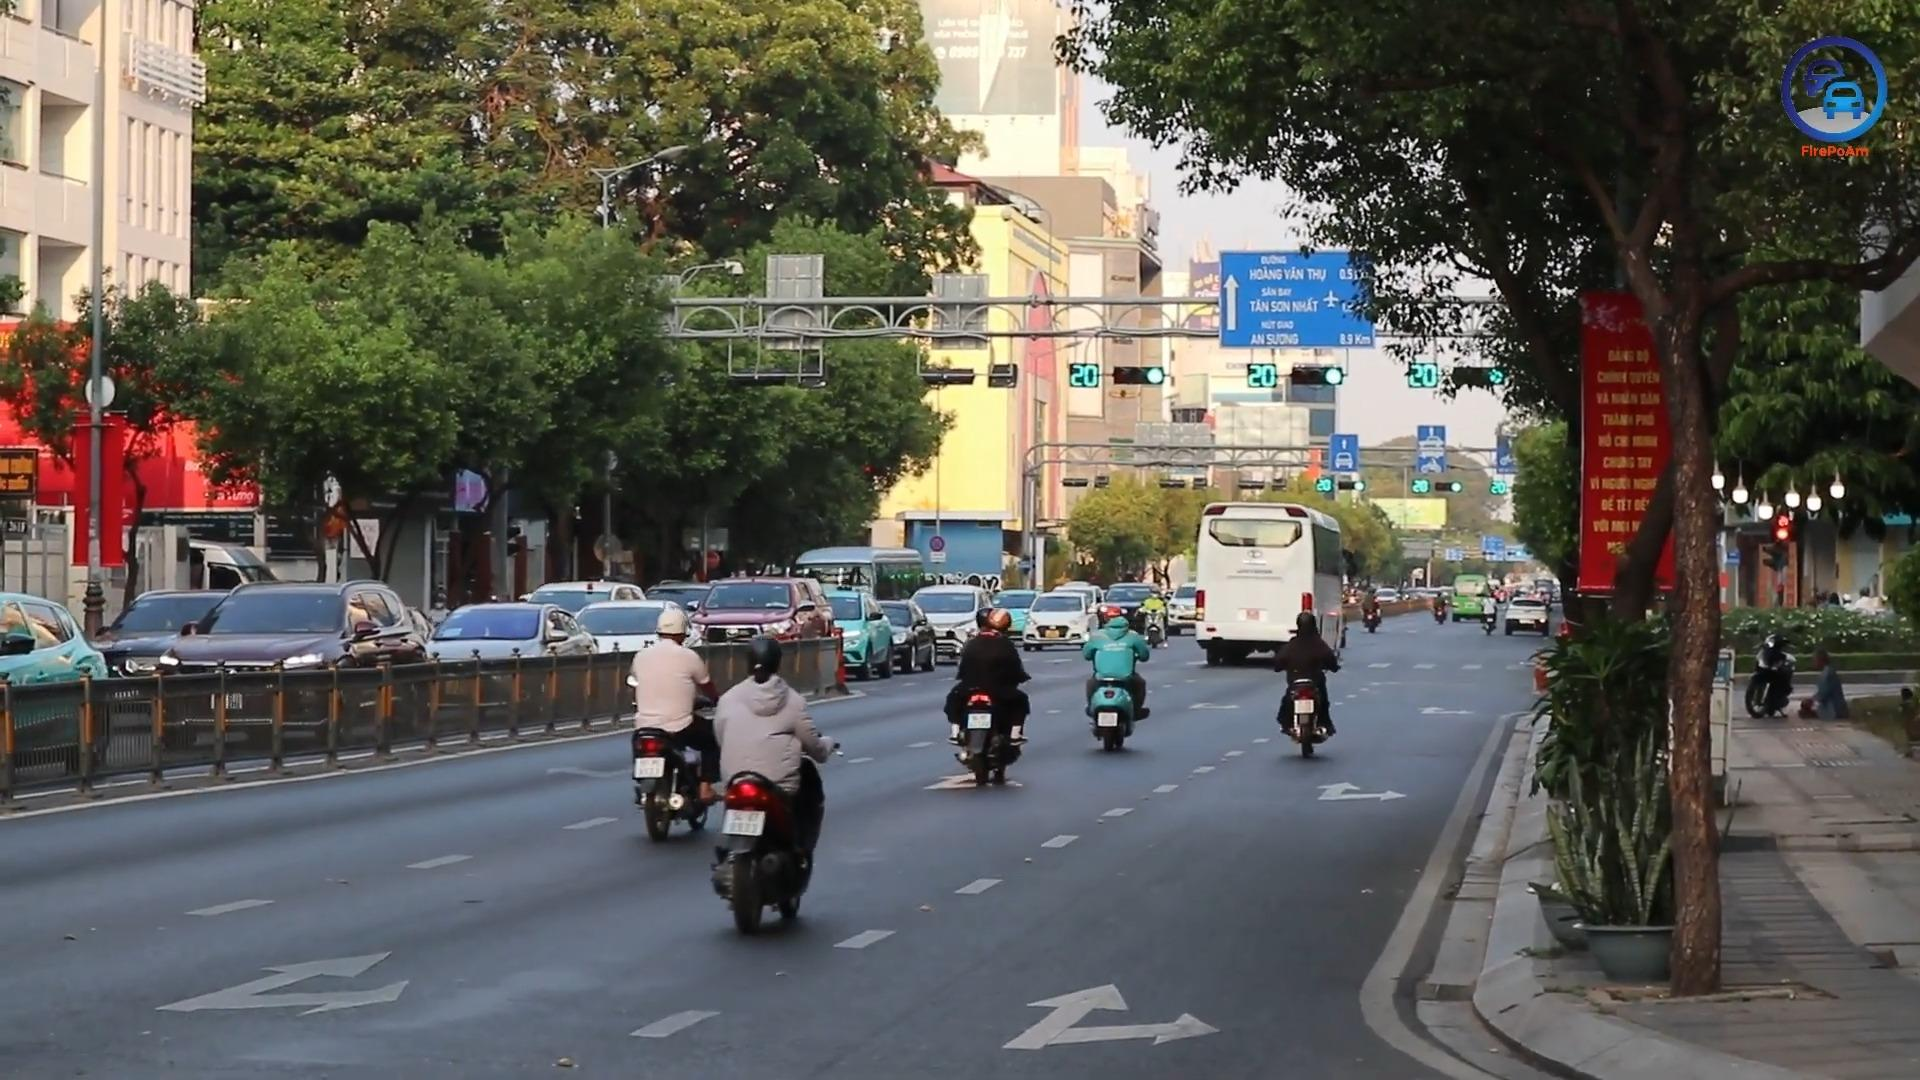bien_so: (720, 808, 766, 837), (633, 756, 667, 780), (966, 712, 992, 729), (1293, 699, 1315, 715), (1097, 712, 1119, 727), (1245, 608, 1260, 621), (1045, 629, 1061, 638)
